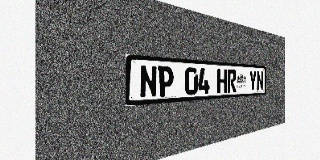0: (185, 67, 198, 95)
4: (198, 68, 210, 95)
H: (217, 69, 227, 93)
N: (139, 65, 157, 98), (256, 71, 263, 91)
P: (158, 66, 173, 97)
R: (227, 69, 236, 93)
Y: (249, 70, 256, 91)
